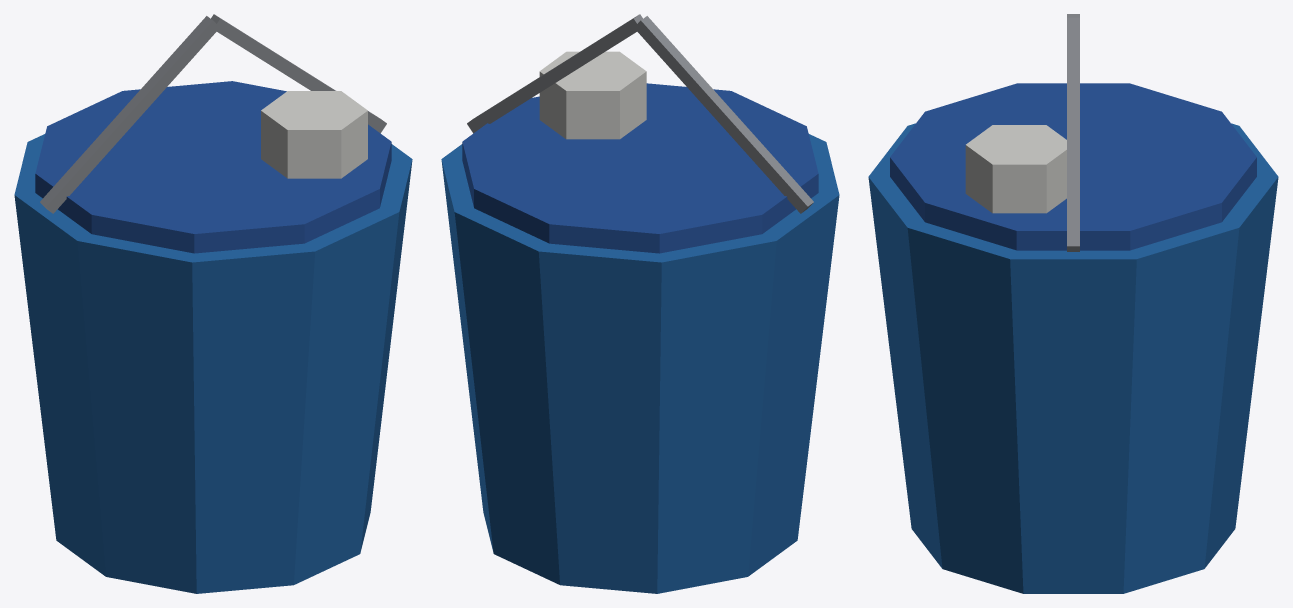
File: prop_bucket.c768b8e0e41d.glb
3 views of the same model, side by side, from view 1: azimuth 30°, elevation 25°; view 2: azimuth 150°, elevation 25°; view 3: azimuth 270°, elevation 25° (orthographic).
Parts seen in each view (by area): view 1: body; view 2: body; view 3: body.
Part boxes in pixels (x1,y1,x2,y2): body: [14, 14, 412, 593]; body: [441, 14, 839, 593]; body: [868, 14, 1278, 593].
Size of the model in its own units: 0.3677 by 0.5246 by 0.38.
